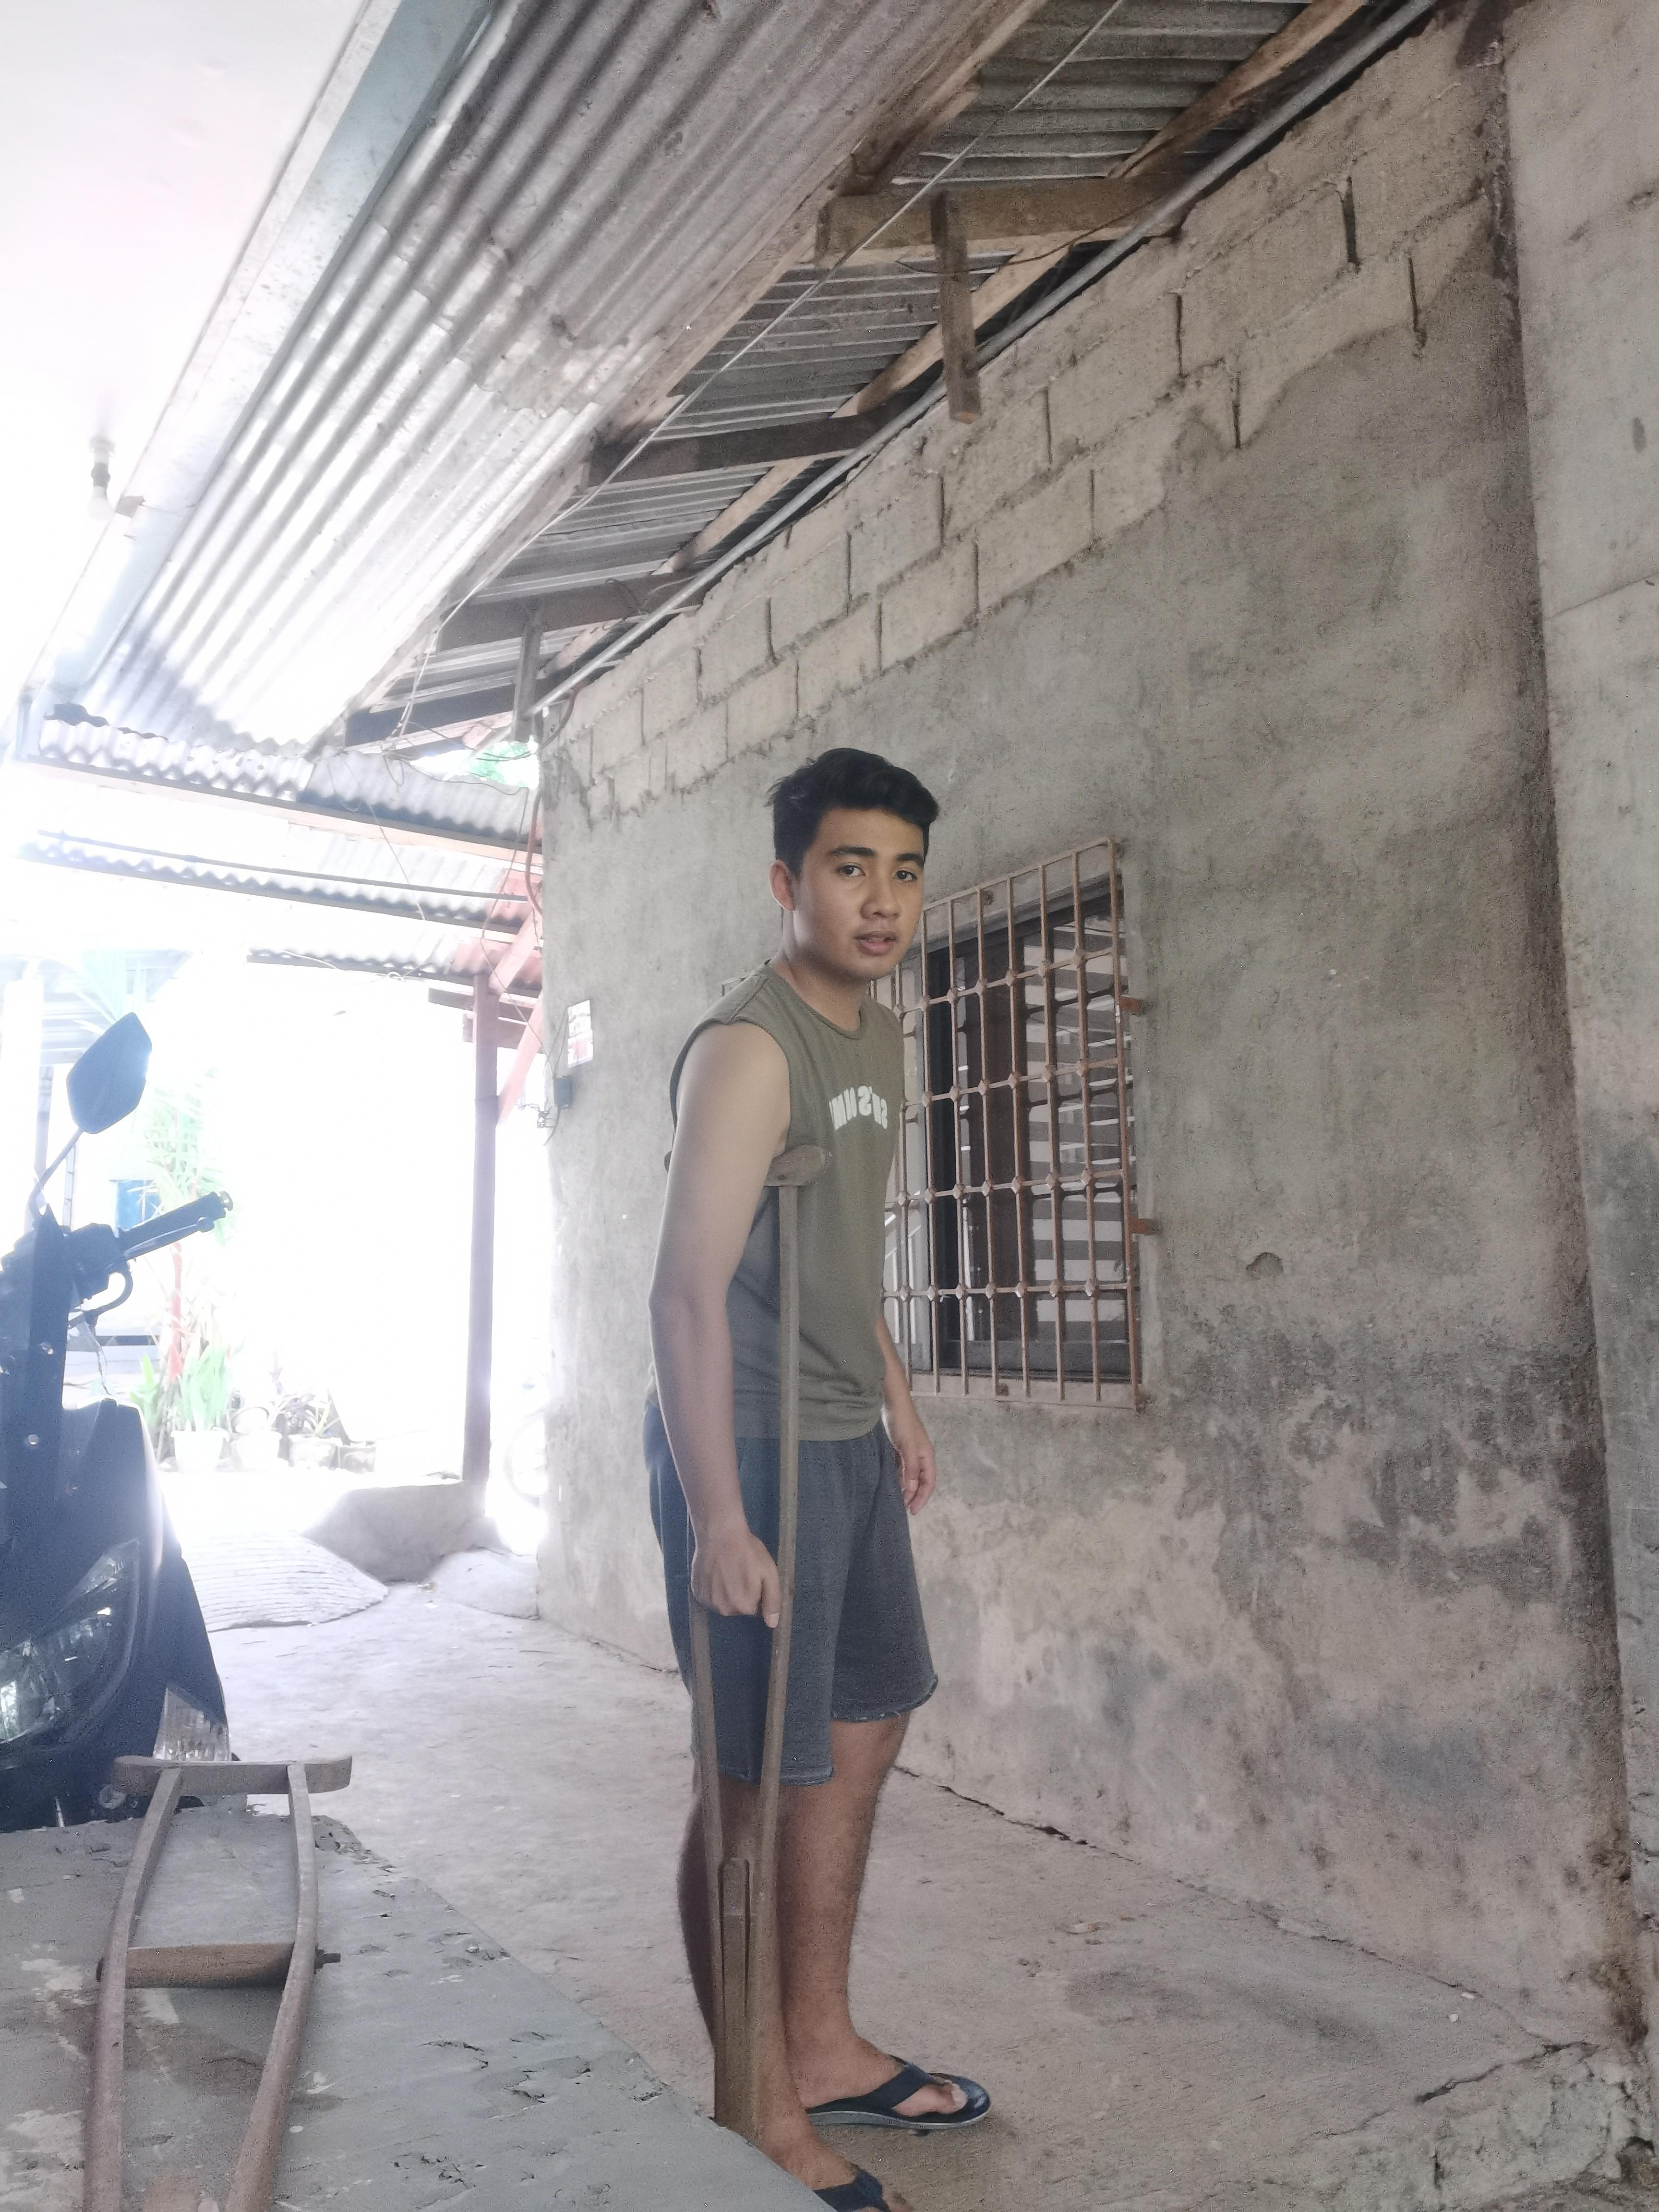crutches: (640, 730, 1009, 2212)
